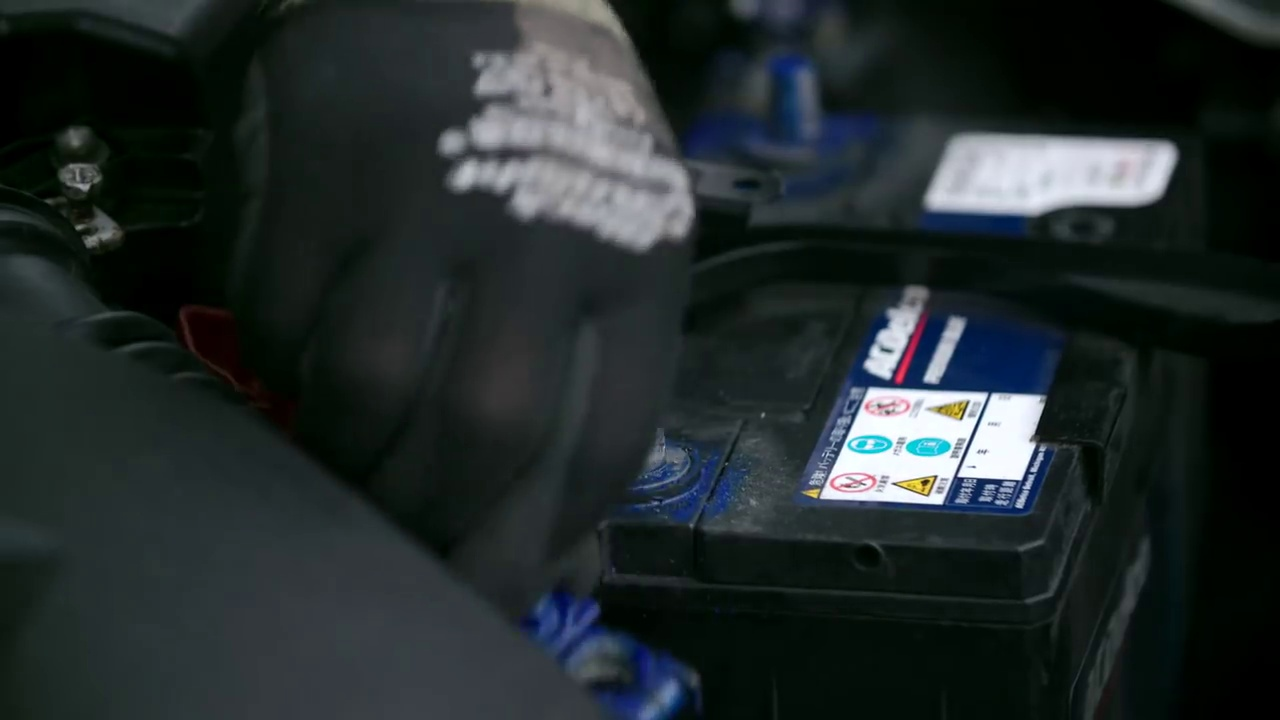battery: (579, 83, 1215, 609)
